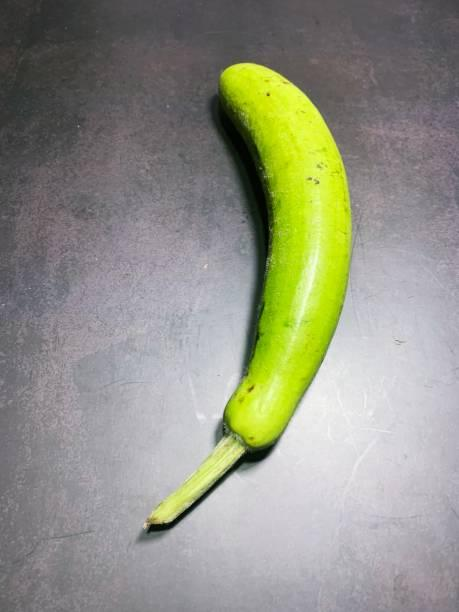bottle gourd: (141, 60, 353, 533)
